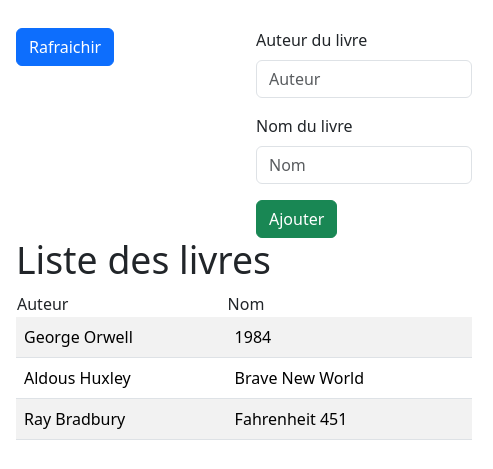
Scenario: Book Add Test › Should display error author message
In the field with test id "book-add-name-field": coordinates (364, 165) [256,146,472,184], type "Lou"
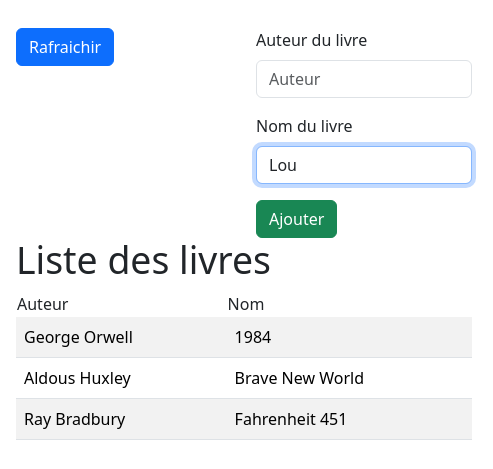
Click the button with test id "book-add-submit-button": coordinates (297, 219) [256,200,337,238]
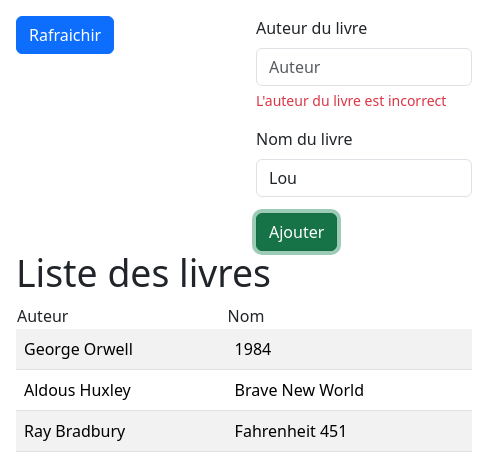
Now the text "L'auteur du livre est incorrect" is shown, box [256,90,472,111]
